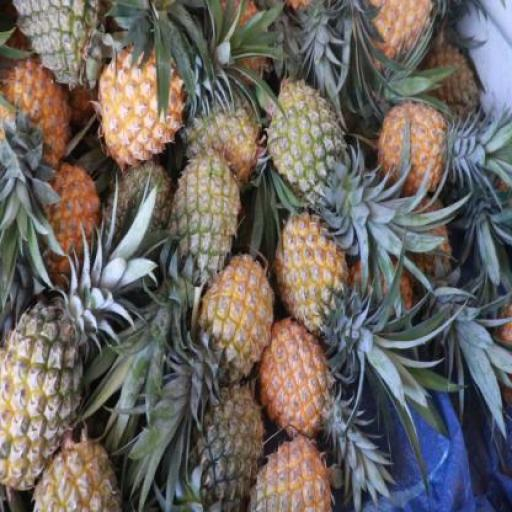------------------------------: (0, 304, 98, 480), (270, 78, 348, 206), (201, 252, 275, 383), (176, 152, 246, 286), (259, 320, 331, 447), (183, 95, 261, 182), (250, 434, 336, 511)
Pineapple - v8 v1: (99, 45, 185, 170), (276, 212, 350, 330), (0, 55, 68, 169), (378, 102, 445, 201)
